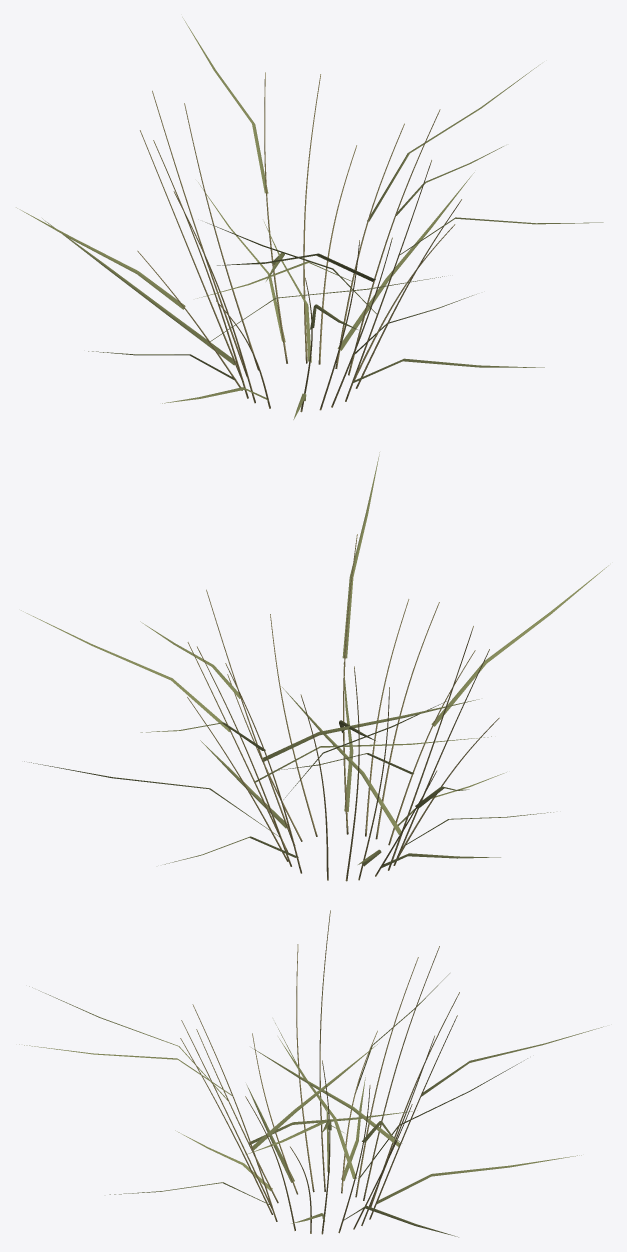
Rendered from Herbes_2_Niveau1.fbx.
3 views of the same model, one above another, from view 1: azimuth 30°, elevation 25°; view 2: azimuth 150°, elevation 25°; view 3: azimuth 270°, elevation 25° (orthographic). The views are drawn at different scales.
Parts seen in each view (by area): view 1: Herbes_2_Niveau1_Jeu; view 2: Herbes_2_Niveau1_Jeu; view 3: Herbes_2_Niveau1_Jeu.
Part boxes in pixels (left/top/right/bottom): Herbes_2_Niveau1_Jeu: left=16, top=17, right=603, bottom=419; Herbes_2_Niveau1_Jeu: left=21, top=452, right=608, bottom=881; Herbes_2_Niveau1_Jeu: left=19, top=910, right=603, bottom=1237.
Bounding box in the file's own units: 66.06 × 34.9 × 77.92.
